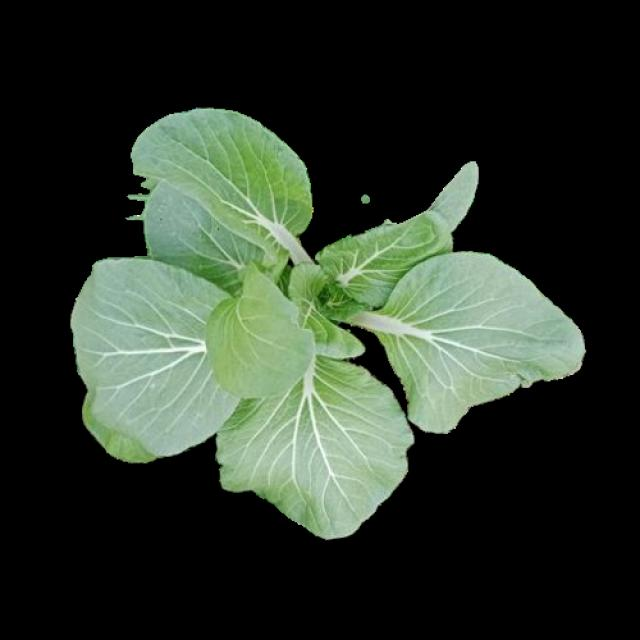healthy: (79, 117, 589, 542)
not-mature: (73, 112, 584, 538)
